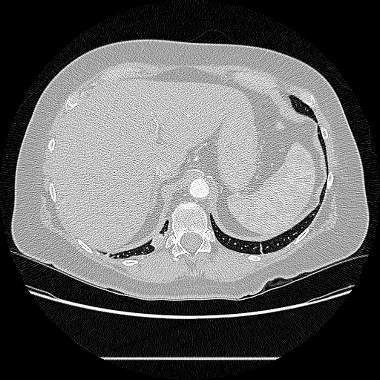nodule: (151, 234, 163, 246)
